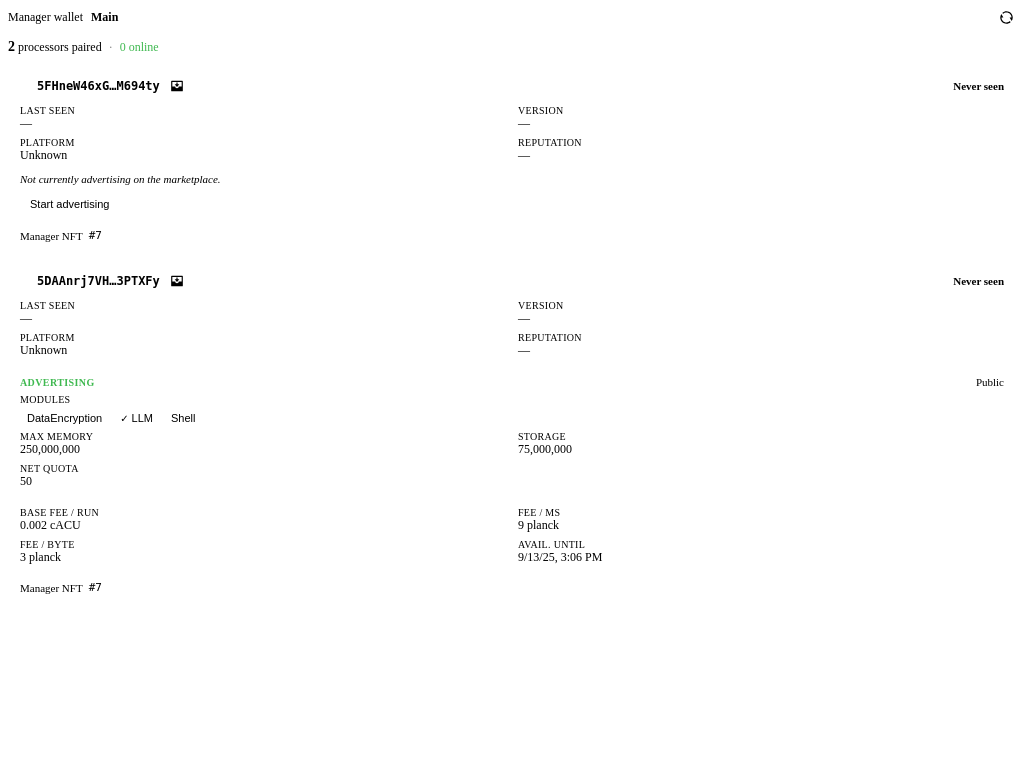
Test: Processors — Start advertising prefill › copies pricing/capacities from an advertising sibling when one exists
Step 1. Click the button "Start advertising" → [70, 204], box [20,195,120,213]
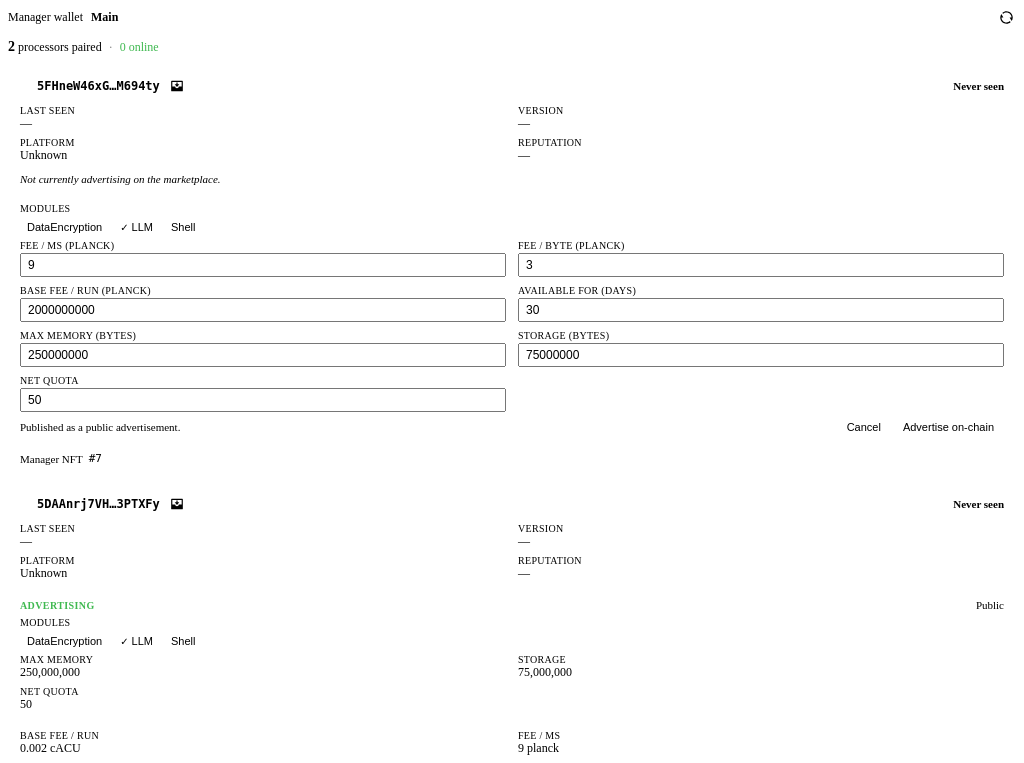
expect the field labelled "Fee / ms (planck)" holds "9": met, box [20,253,506,277]
expect the field labelled "Fee / byte (planck)" holds "3": met, box [518,253,1004,277]
expect the field labelled "Base fee / run (planck)" holds "2000000000": met, box [20,298,506,322]
